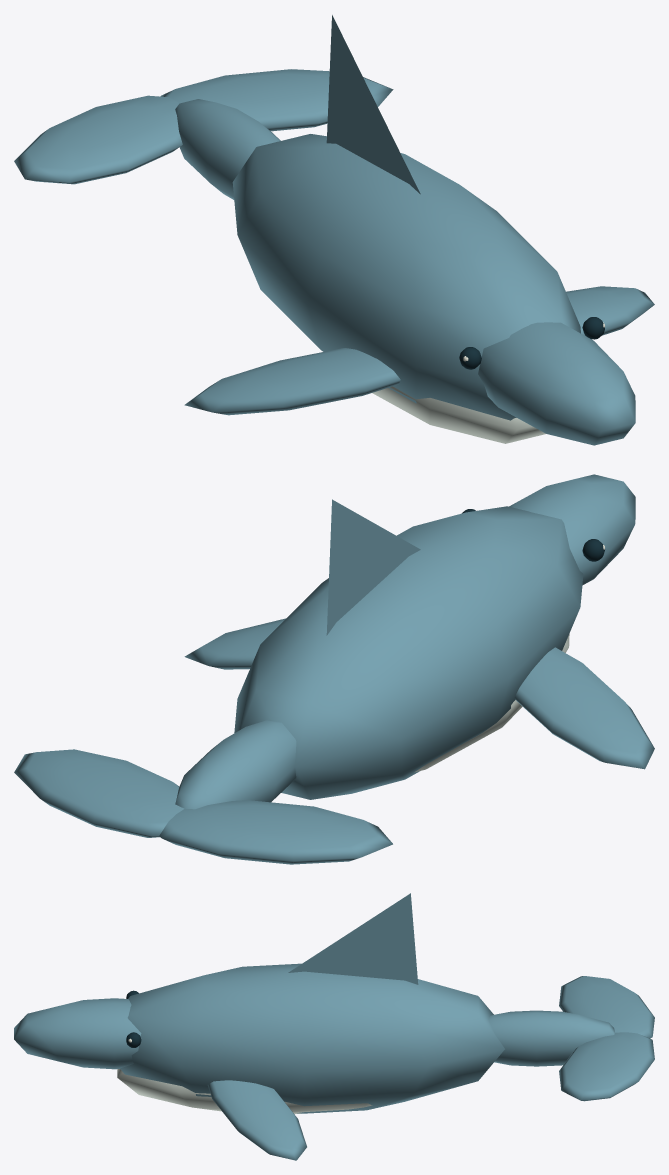
Rendered from ocean-dolphin-1.glb.
The picture shows the model from 3 angles, top to bottom: view 1: azimuth 30°, elevation 25°; view 2: azimuth 150°, elevation 25°; view 3: azimuth 270°, elevation 25°; orthographic projection. The views are drawn at different scales.
Visible parts, largest first — view 1: ocean-dolphin-1, Tail; view 2: ocean-dolphin-1, Tail; view 3: ocean-dolphin-1, Tail.
Part boxes in pixels (<box>): ocean-dolphin-1: <box>184,15,654,445</box>; Tail: <box>14,69,393,199</box>; ocean-dolphin-1: <box>184,474,654,799</box>; Tail: <box>14,720,392,864</box>; ocean-dolphin-1: <box>14,893,504,1160</box>; Tail: <box>489,976,654,1101</box>.
Bounding box in the file's own units: 2.09 × 1.33 × 3.64.
